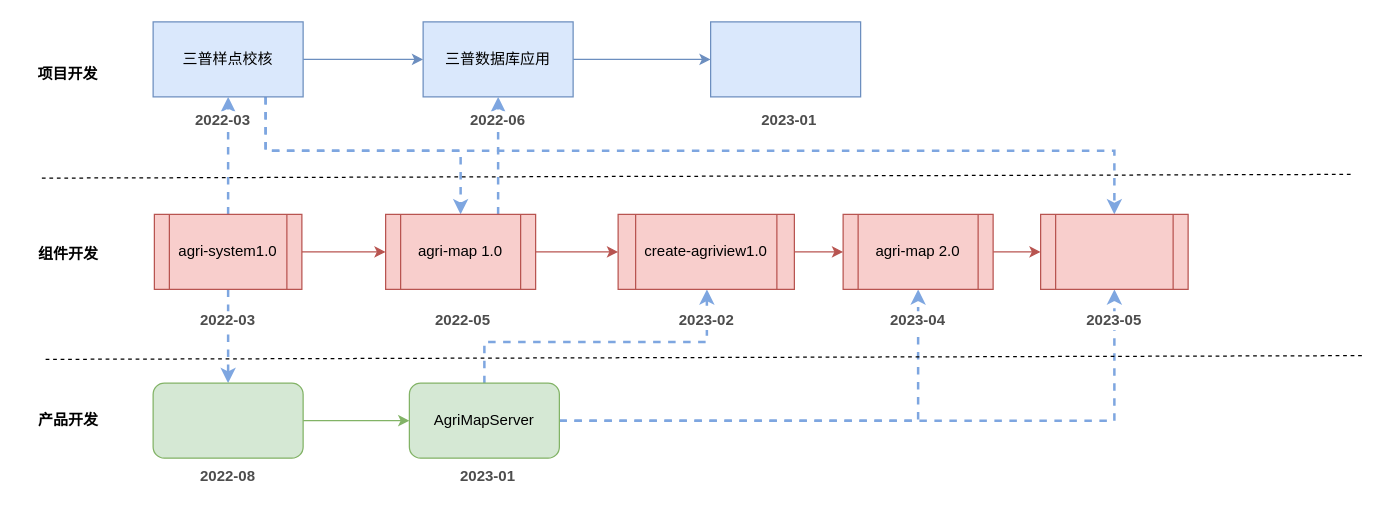
This 1389x518 diagram has some shape labels left out. The box of each missing label's shape, as (x1, y1, x2, y2) in pixels:
agri-system2.0: (1039, 213, 1188, 289)
AgriData: (152, 382, 303, 458)
贵州三农大数据: (709, 21, 861, 97)
